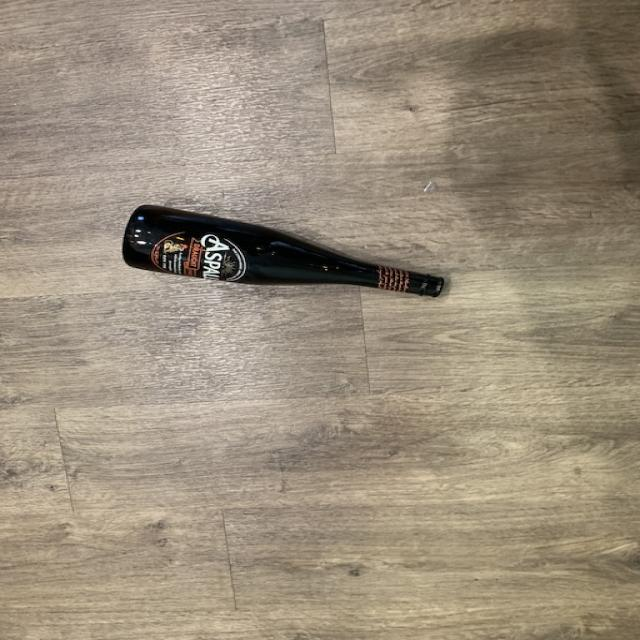litter: (116, 202, 449, 302)
